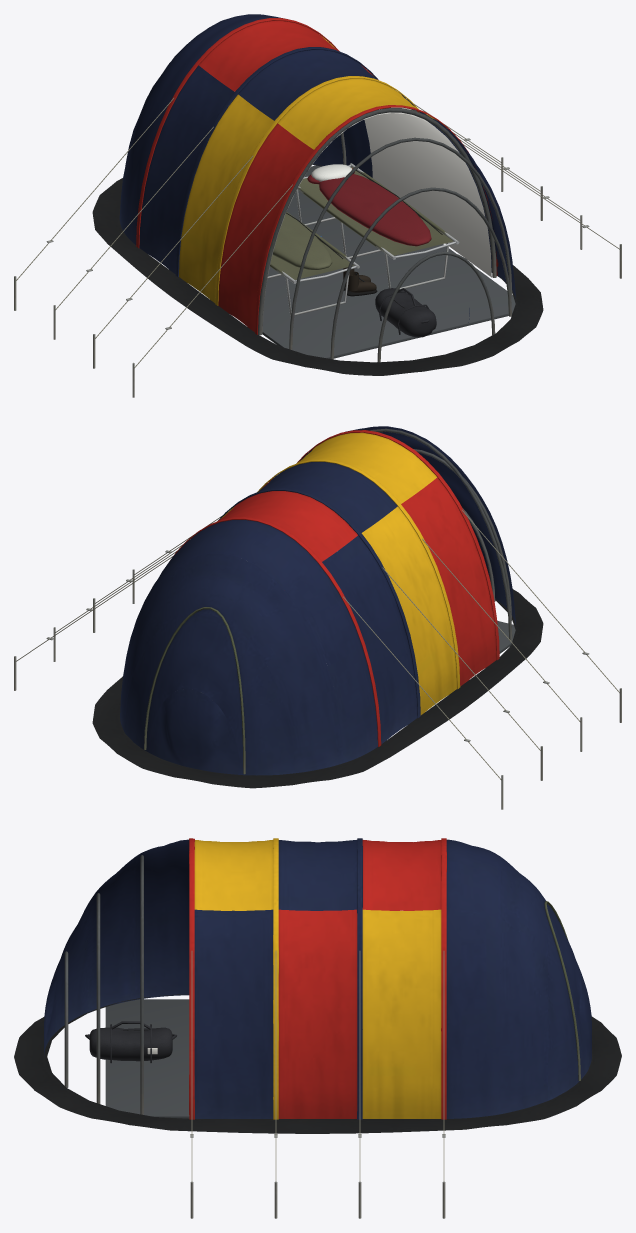
File: endurance-deployed-fitted.glb
3 renders of one model, top to bottom at view 1: azimuth 30°, elevation 25°; view 2: azimuth 150°, elevation 25°; view 3: azimuth 270°, elevation 25°, orthographic. The views are drawn at different scales.
Parts seen in each view (by area): view 1: ENDURANCE_shelter, ENDURANCE_fitout, ENDURANCE_interior; view 2: ENDURANCE_shelter; view 3: ENDURANCE_shelter, ENDURANCE_fitout.
Boxes of the visible parts, <box> form: ENDURANCE_shelter: <box>14,14,621,397</box>; ENDURANCE_fitout: <box>267,163,459,337</box>; ENDURANCE_interior: <box>262,107,491,333</box>; ENDURANCE_shelter: <box>14,426,621,809</box>; ENDURANCE_shelter: <box>14,838,621,1218</box>; ENDURANCE_fitout: <box>85,1021,176,1063</box>.
Size of the model in its own units: 5.42 by 2.44 by 5.49.
23 materials, 12 textured.
